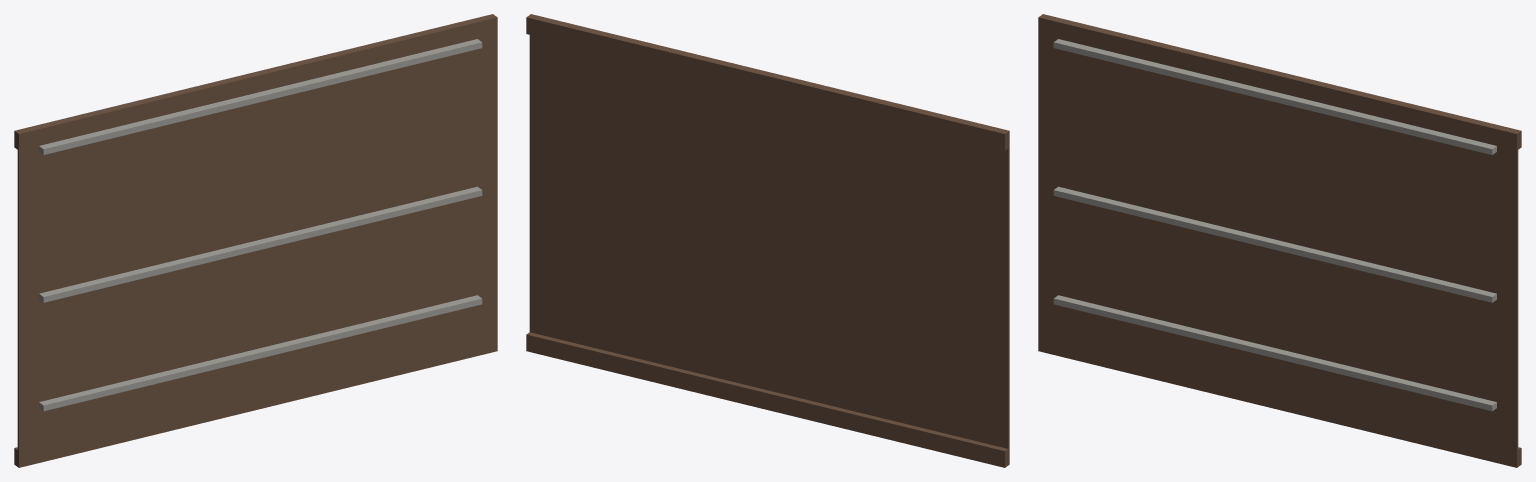
File: pegboard.glb
3 views of the same model, side by side, from view 1: azimuth 30°, elevation 25°; view 2: azimuth 150°, elevation 25°; view 3: azimuth 330°, elevation 25° (orthographic).
Parts seen in each view (by area): view 1: wood, brushed; view 2: wood; view 3: wood, brushed.
Part boxes in pixels (box(x1,y1,x2,y2)): wood: box(14, 14, 497, 467); brushed: box(39, 39, 482, 411); wood: box(526, 14, 1009, 467); wood: box(1038, 14, 1521, 467); brushed: box(1053, 39, 1496, 411).
Size of the model in its own units: 1.2 by 0.8 by 0.04.
